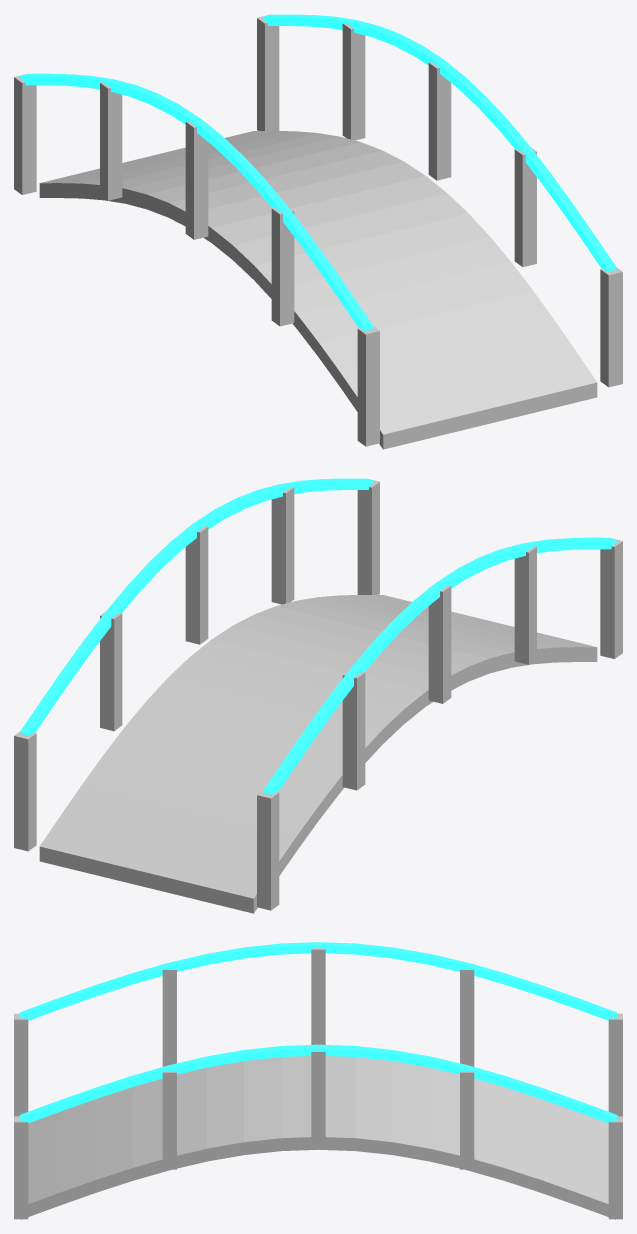
3 renders of one model, top to bottom at view 1: azimuth 30°, elevation 25°; view 2: azimuth 150°, elevation 25°; view 3: azimuth 270°, elevation 25°, orthographic. The views are drawn at different scales.
Visible parts, largest first — view 1: Neon_ArchedBridge_Simple; view 2: Neon_ArchedBridge_Simple; view 3: Neon_ArchedBridge_Simple.
Part boxes in pixels (x1=…): Neon_ArchedBridge_Simple: x1=14, y1=14, x2=622, y2=449; Neon_ArchedBridge_Simple: x1=14, y1=478, x2=622, y2=913; Neon_ArchedBridge_Simple: x1=14, y1=942, x2=622, y2=1219.
Size of the model in its own units: 2.16 by 1.66 by 5.12.
